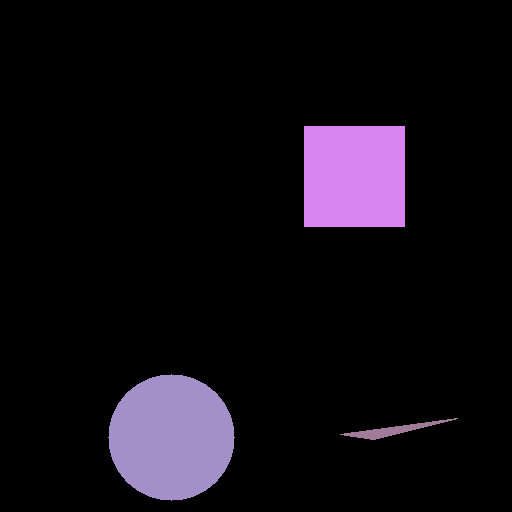circle: (108, 374, 234, 500)
square: (304, 126, 404, 226)
triangle: (340, 418, 457, 439)
